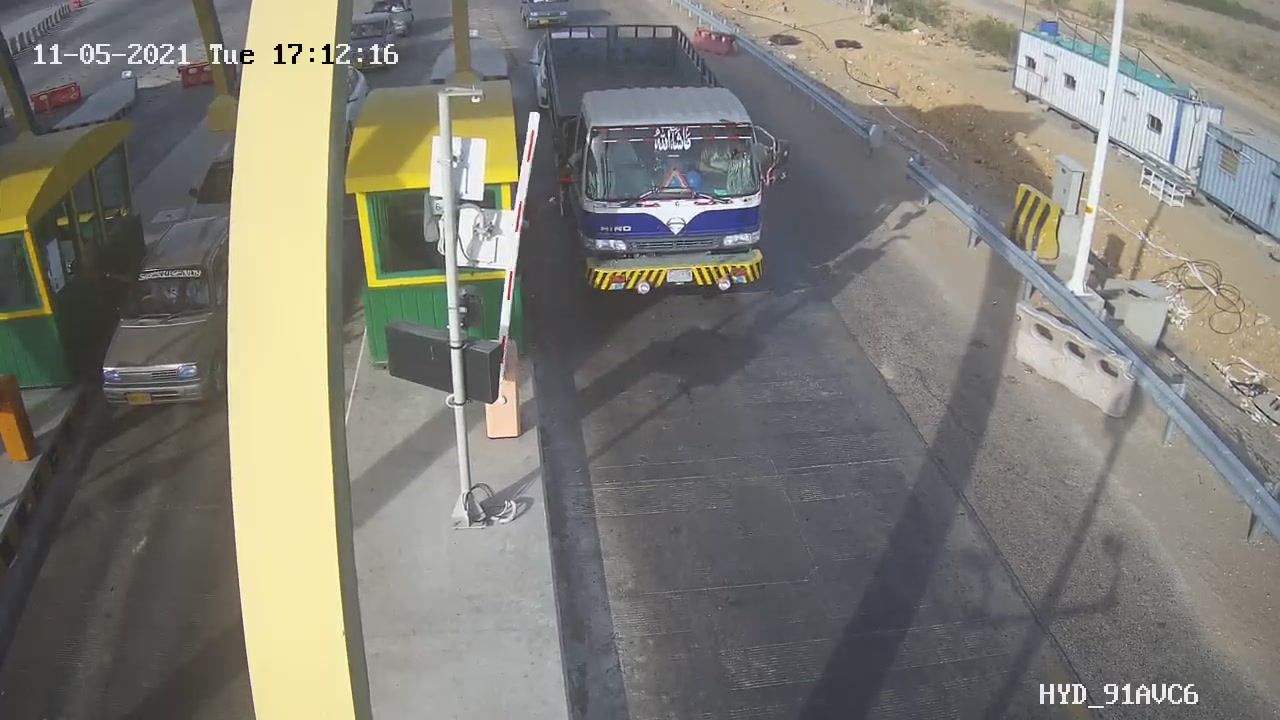F5: (525, 11, 803, 316)
